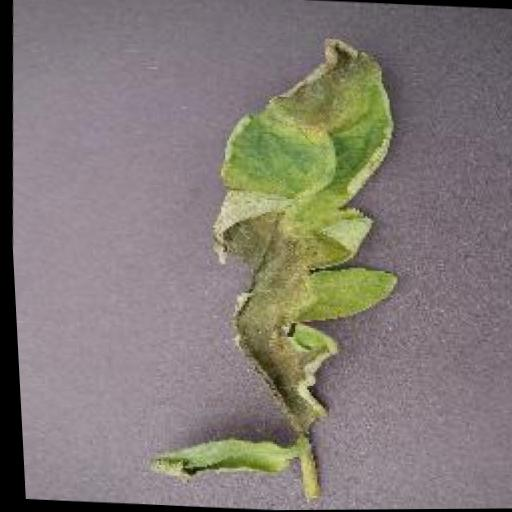Late Blight: (191, 28, 415, 444), (140, 427, 288, 493)
